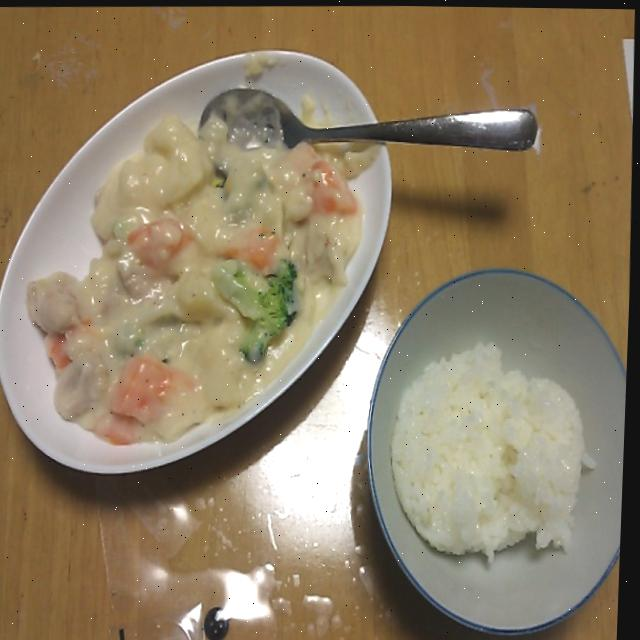米饭主食: (354, 253, 633, 630)
